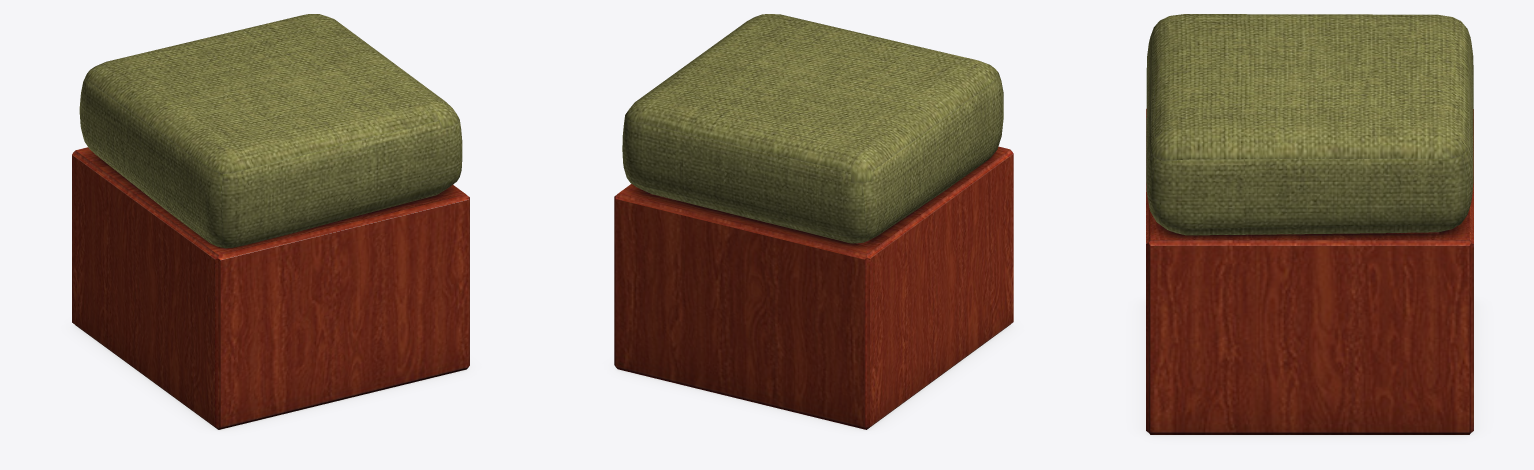
Rendered from puff-green.glb.
3 renders of one model, left to right at view 1: azimuth 30°, elevation 25°; view 2: azimuth 150°, elevation 25°; view 3: azimuth 270°, elevation 25°, orthographic. The views are drawn at different scales.
Visible parts, largest first — view 1: Base, Puff Green, Shadow; view 2: Base, Puff Green, Shadow; view 3: Puff Green, Base, Shadow.
Part boxes in pixels (x1,y1,x2,y2): Base: (72, 147, 469, 429); Puff Green: (79, 14, 462, 248); Shadow: (70, 323, 471, 432); Base: (614, 146, 1013, 429); Puff Green: (622, 14, 1003, 243); Shadow: (612, 323, 1015, 432); Puff Green: (1146, 14, 1473, 235); Base: (1146, 109, 1473, 434); Shadow: (1137, 299, 1482, 440).
Size of the model in its own units: 1.28 by 0.9984 by 1.28.
3 materials, 3 textured.
